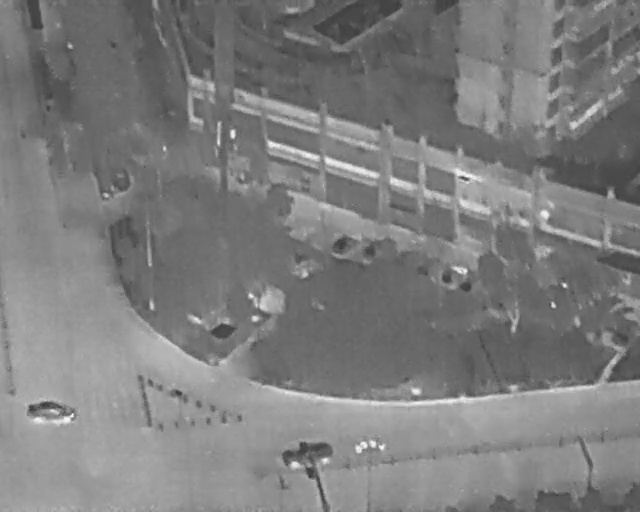Car: (360, 227, 398, 267), (436, 255, 473, 293), (26, 400, 76, 426), (330, 227, 361, 259)
